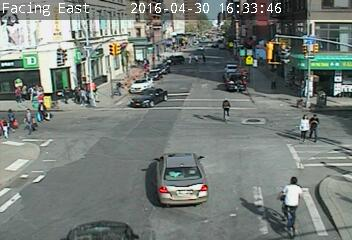neg: (273, 173, 318, 234), (127, 78, 159, 122), (311, 52, 340, 90), (155, 148, 181, 183), (37, 150, 62, 183), (86, 146, 108, 175), (289, 63, 309, 90), (222, 56, 238, 77), (262, 51, 278, 72), (19, 48, 34, 68), (60, 41, 75, 61), (102, 35, 115, 52)
pos: (217, 95, 242, 128), (285, 110, 309, 142), (306, 110, 330, 142), (59, 83, 75, 104), (2, 106, 17, 127), (23, 105, 38, 125), (35, 100, 50, 120)
